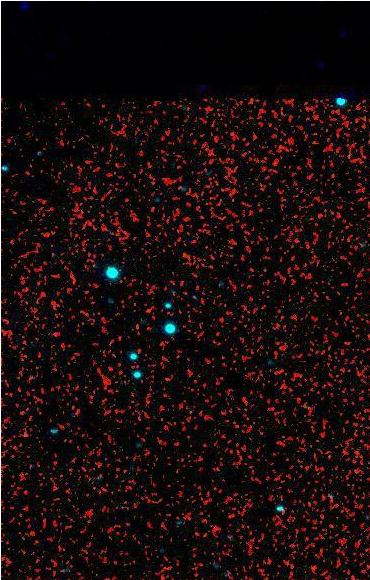star: (134, 299, 164, 329)
